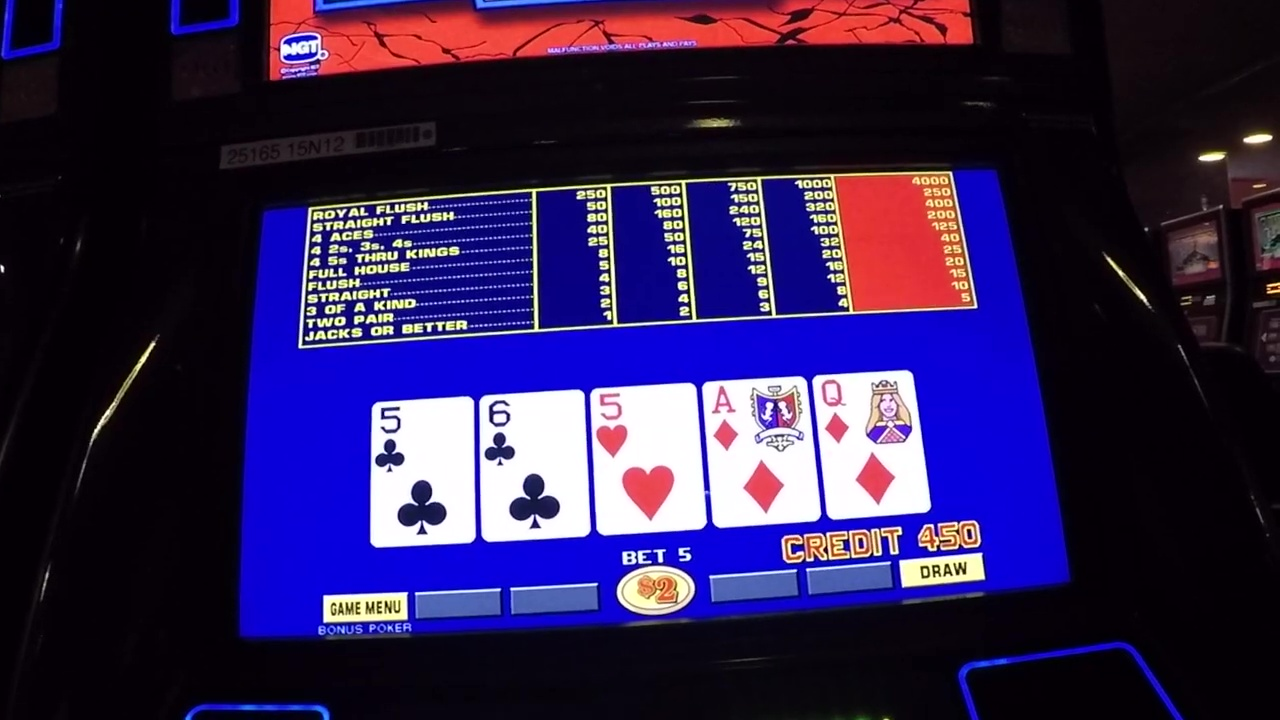C5: (376, 403, 471, 469)
C6: (481, 397, 582, 464)
DA: (709, 386, 810, 458)
DQ: (818, 372, 913, 446)
H5: (593, 392, 694, 460)
